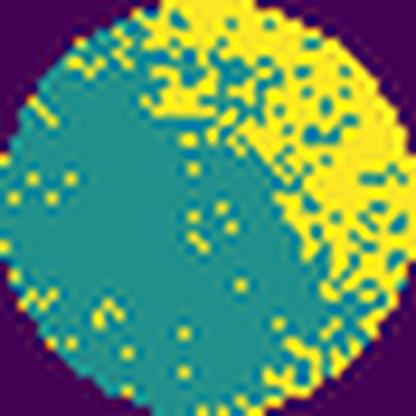Edge-Loc: (137, 0, 416, 305)
